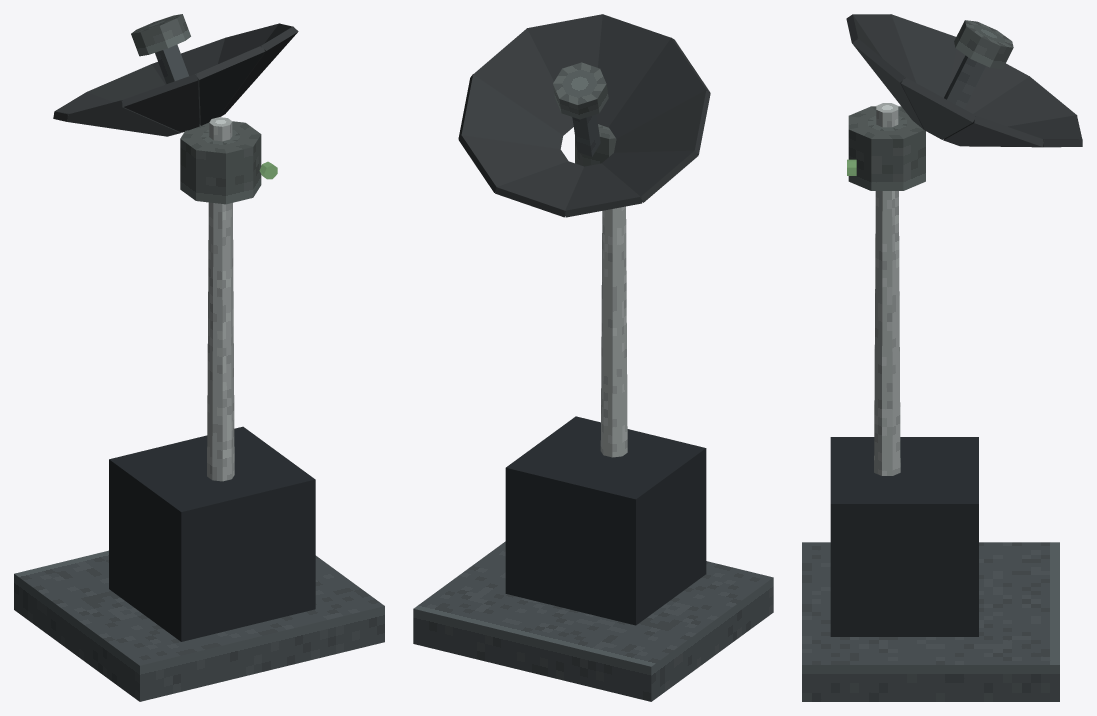
Rendered from f_xedra_antenna.glb.
The picture shows the model from 3 angles, left to right: view 1: azimuth 30°, elevation 25°; view 2: azimuth 150°, elevation 25°; view 3: azimuth 270°, elevation 25°; orthographic projection. The views are drawn at different scales.
Parts seen in each view (by area): view 1: block_electronics-enclosure, block_antenna-mount, block_parabolic-facet (×8), block_telescoping-antenna-mast, block_scanner-azimuth-motor, block_dish-feed, block_dish-feed-support; view 2: block_parabolic-facet (×10), block_electronics-enclosure, block_antenna-mount, block_telescoping-antenna-mast, block_dish-feed, block_dish-feed-support, block_scanner-azimuth-motor; view 3: block_electronics-enclosure, block_antenna-mount, block_parabolic-facet (×9), block_telescoping-antenna-mast, block_scanner-azimuth-motor, block_dish-feed, block_dish-feed-support.
Boxes of the visible parts, x1,y1,x2,y2 form: block_electronics-enclosure: [109, 426, 315, 641]; block_antenna-mount: [14, 550, 384, 701]; block_parabolic-facet (×8): [54, 23, 298, 136]; block_telescoping-antenna-mast: [207, 117, 234, 481]; block_scanner-azimuth-motor: [180, 121, 261, 204]; block_dish-feed: [131, 14, 190, 56]; block_dish-feed-support: [155, 44, 188, 83]; block_parabolic-facet (×10): [458, 14, 710, 217]; block_electronics-enclosure: [505, 416, 706, 625]; block_antenna-mount: [413, 541, 773, 701]; block_telescoping-antenna-mast: [600, 206, 627, 457]; block_dish-feed: [553, 62, 608, 119]; block_dish-feed-support: [572, 114, 600, 156]; block_scanner-azimuth-motor: [575, 124, 616, 166]; block_electronics-enclosure: [830, 437, 978, 636]; block_antenna-mount: [802, 542, 1059, 701]; block_parabolic-facet (×9): [846, 14, 1082, 146]; block_telescoping-antenna-mast: [874, 103, 900, 475]; block_scanner-azimuth-motor: [848, 106, 925, 190]; block_dish-feed: [954, 20, 1013, 69]; block_dish-feed-support: [944, 55, 985, 108].
Size of the model in its own units: 0.63 by 1.47 by 0.6097.
Materials: 2 (2 with a texture image).
